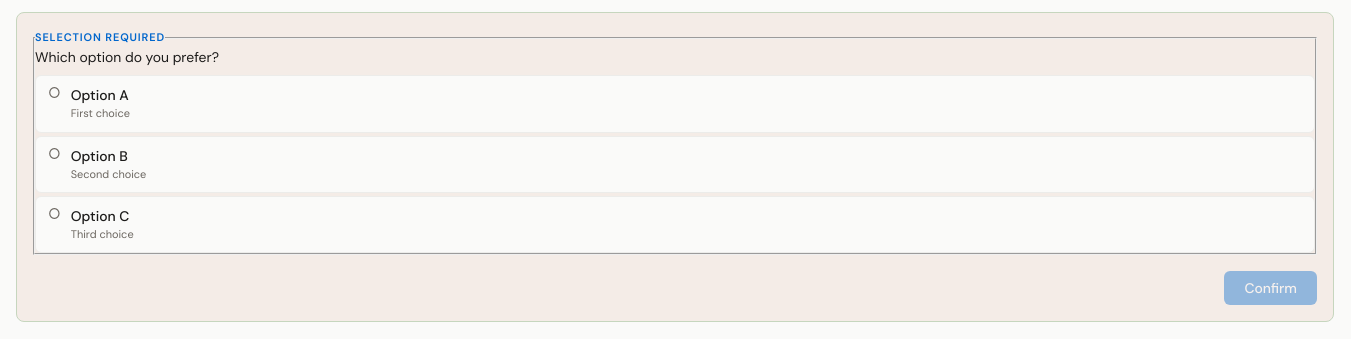
QuestionPrompt › Single Select Interactions › shows filled radio indicator when selected
This screenshot has width=1351, height=339.
Click the radio button labelled "○ Option A First choice" at (100, 95), box [35, 76, 1315, 133]
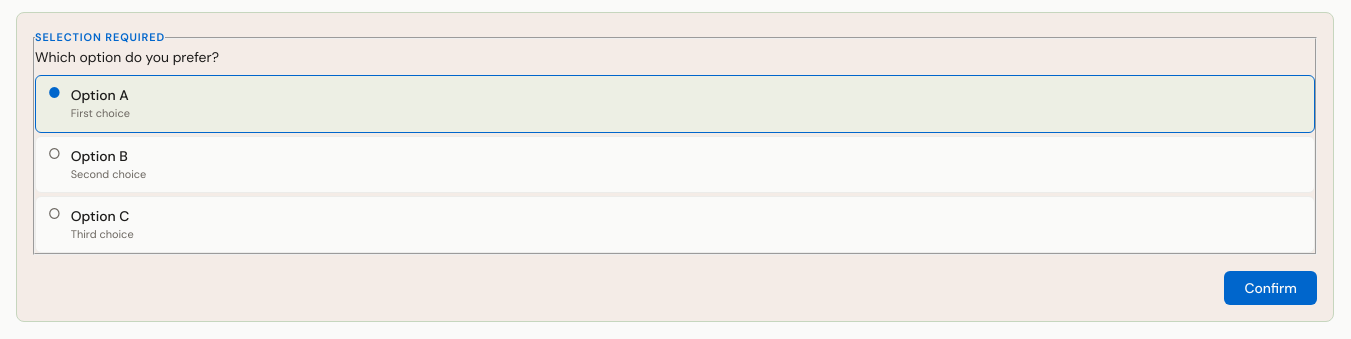
Check: the text with class "option-indicator" reads "●", box [48, 84, 61, 102]
